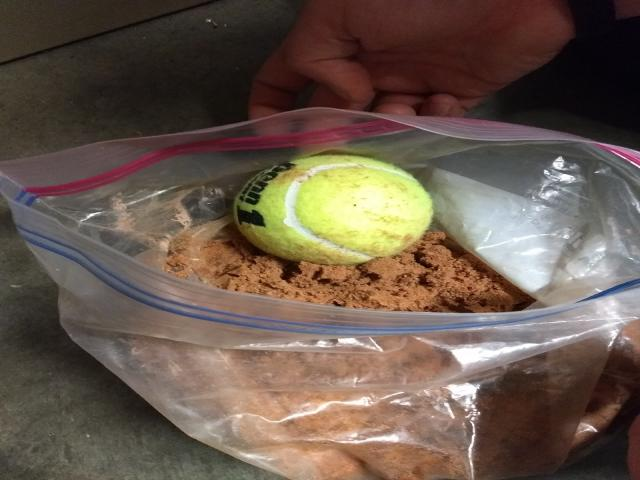tennis-ball: (231, 152, 435, 266)
